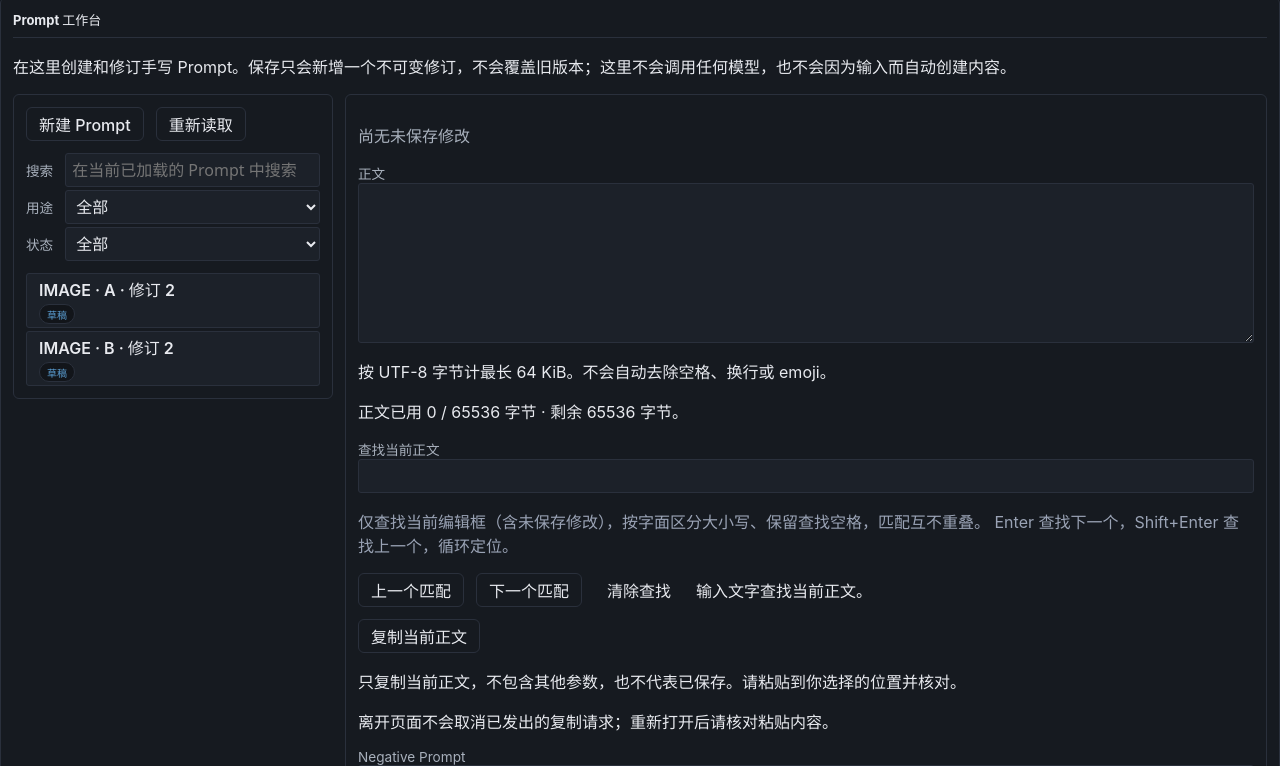
mounted save receipts survive family navigation › reopens A with its actual conflict outcome and never changes B
Click the button "IMAGE · A · 修订 2 草稿".
click(173, 300)  # box [26,273,320,328]
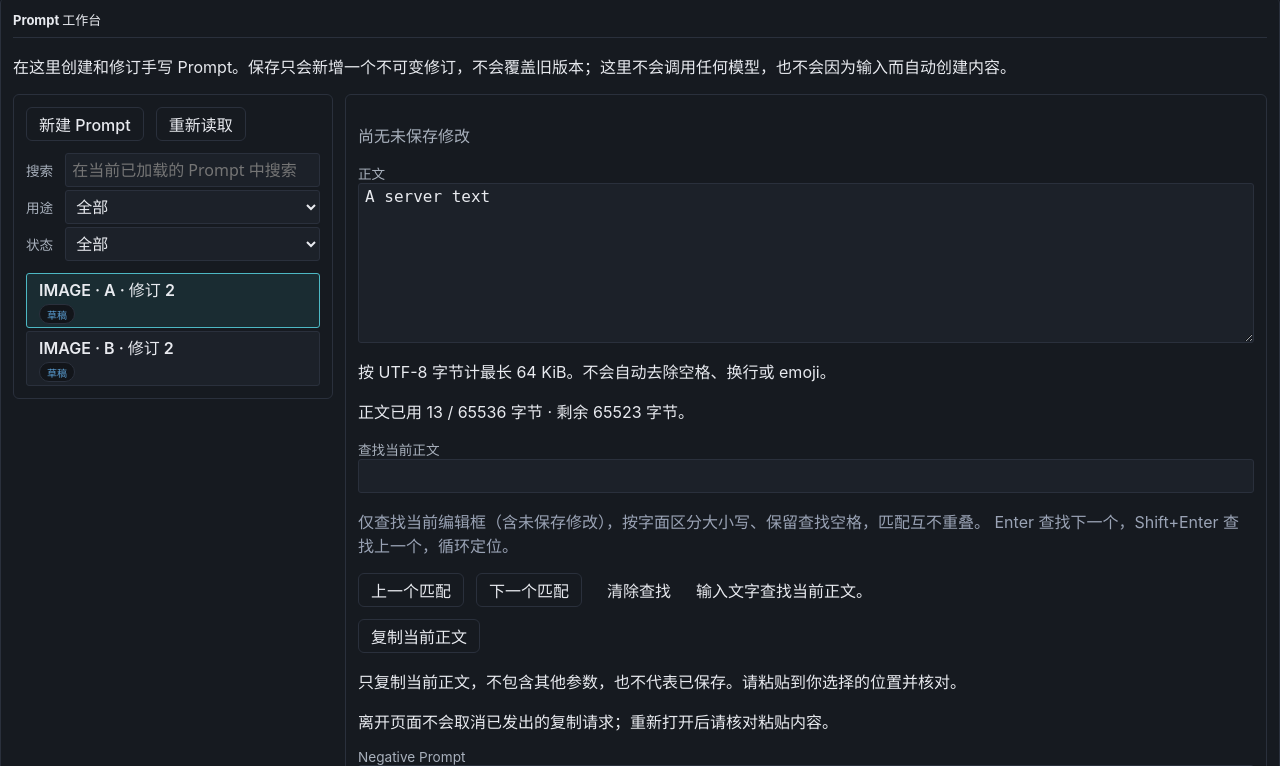
Now the text box labelled "正文" holds "A server text"
Replace the text in the text box labelled "正文" with "A frozen local text" at (806, 263), box [358,183,1254,343]
(page scrolled)
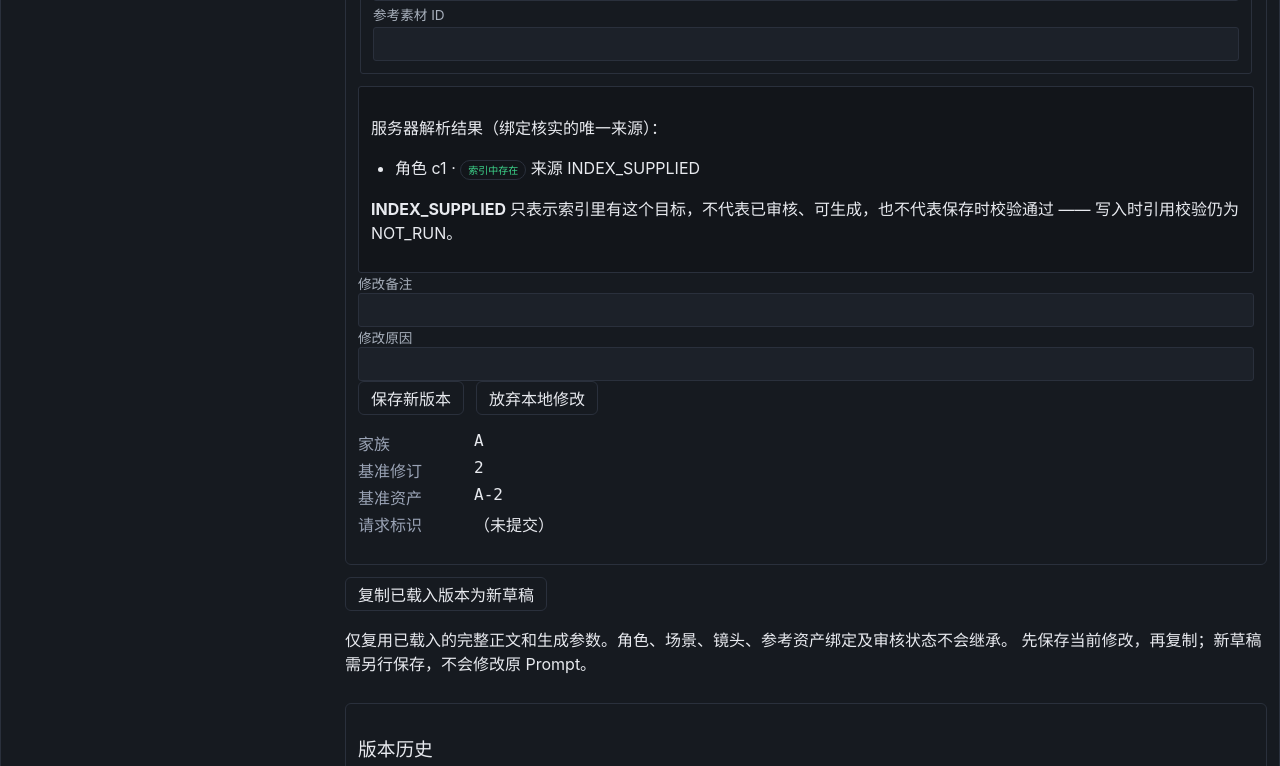
Click the button "保存新版本".
click(411, 398)  # box [358,380,464,414]
(page scrolled)
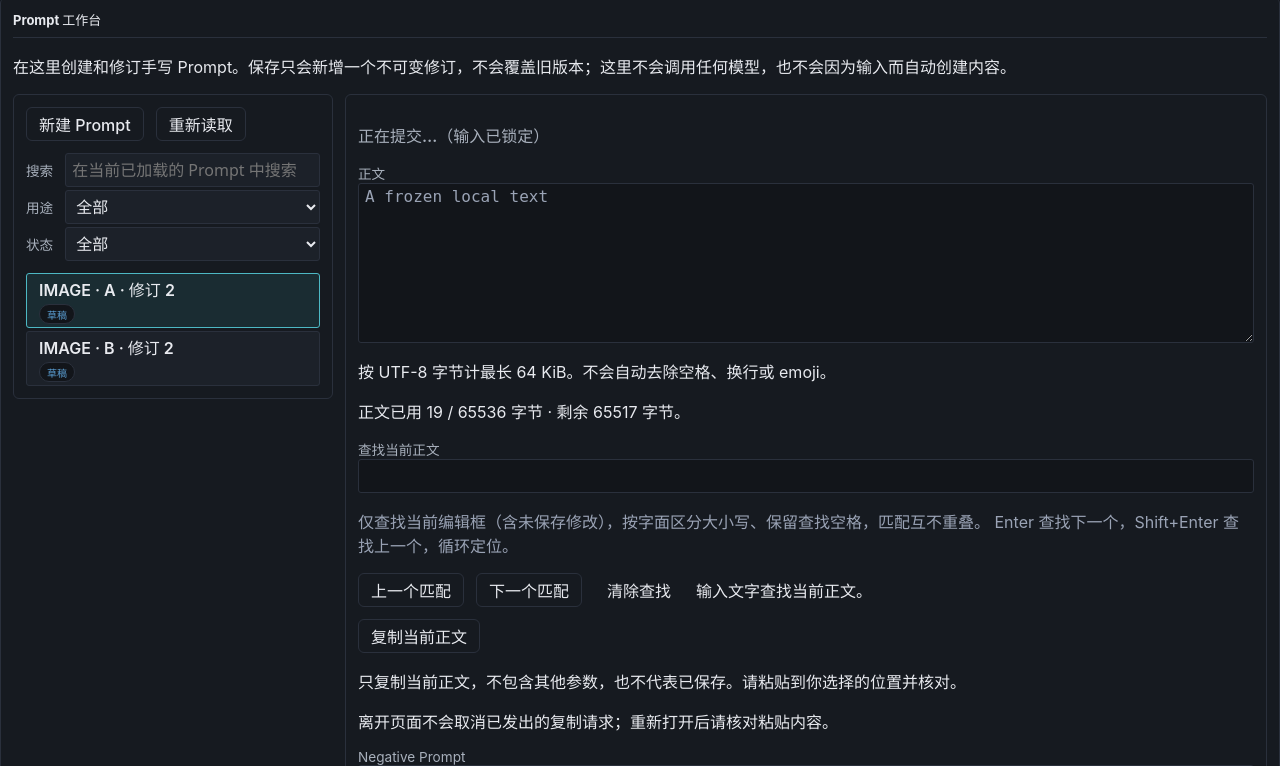
Click the button "IMAGE · B · 修订 2 草稿".
click(173, 358)  # box [26,331,320,386]
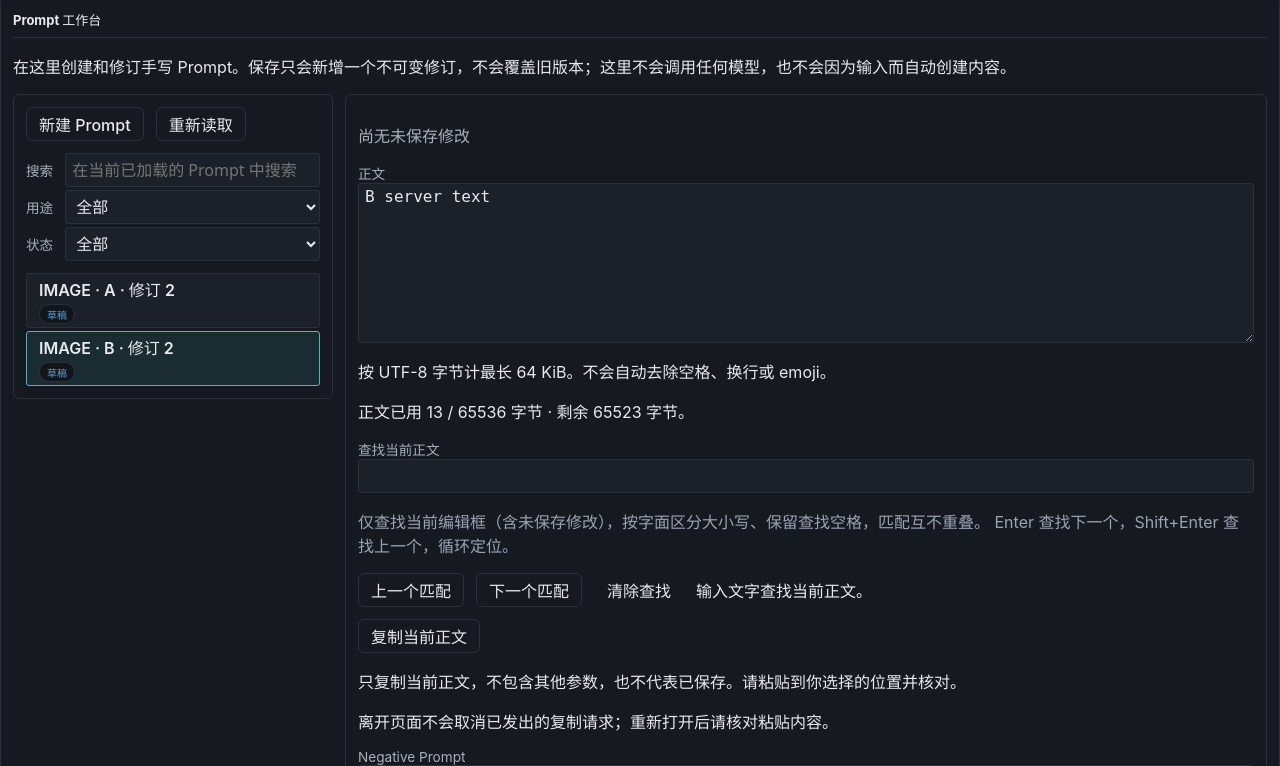
Expected: the text "已保存" is not shown
Now the text box labelled "正文" holds "B server text", box [358,183,1254,343]
Click the button "IMAGE · A · 修订 2 草稿".
click(173, 300)  # box [26,273,320,328]
(page scrolled)
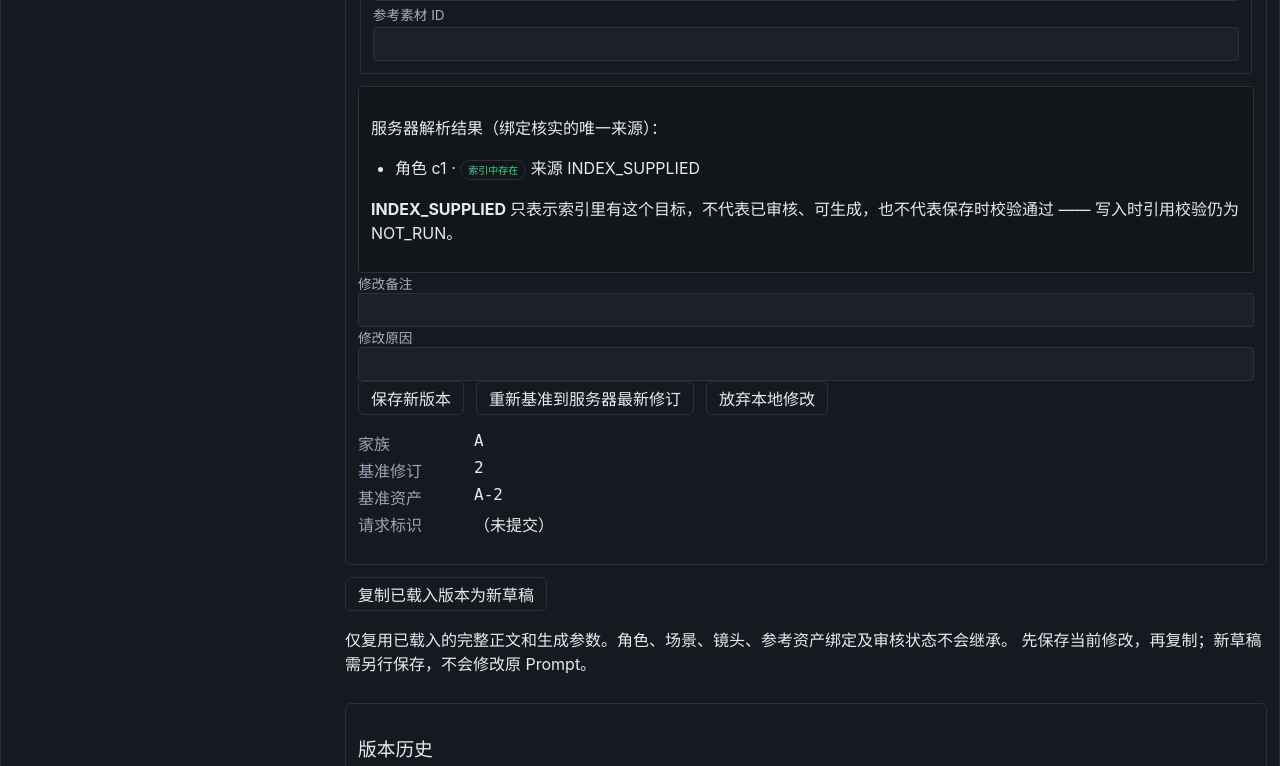
Click the button "重新基准到服务器最新修订".
click(585, 398)  # box [476,380,694,414]
(page scrolled)
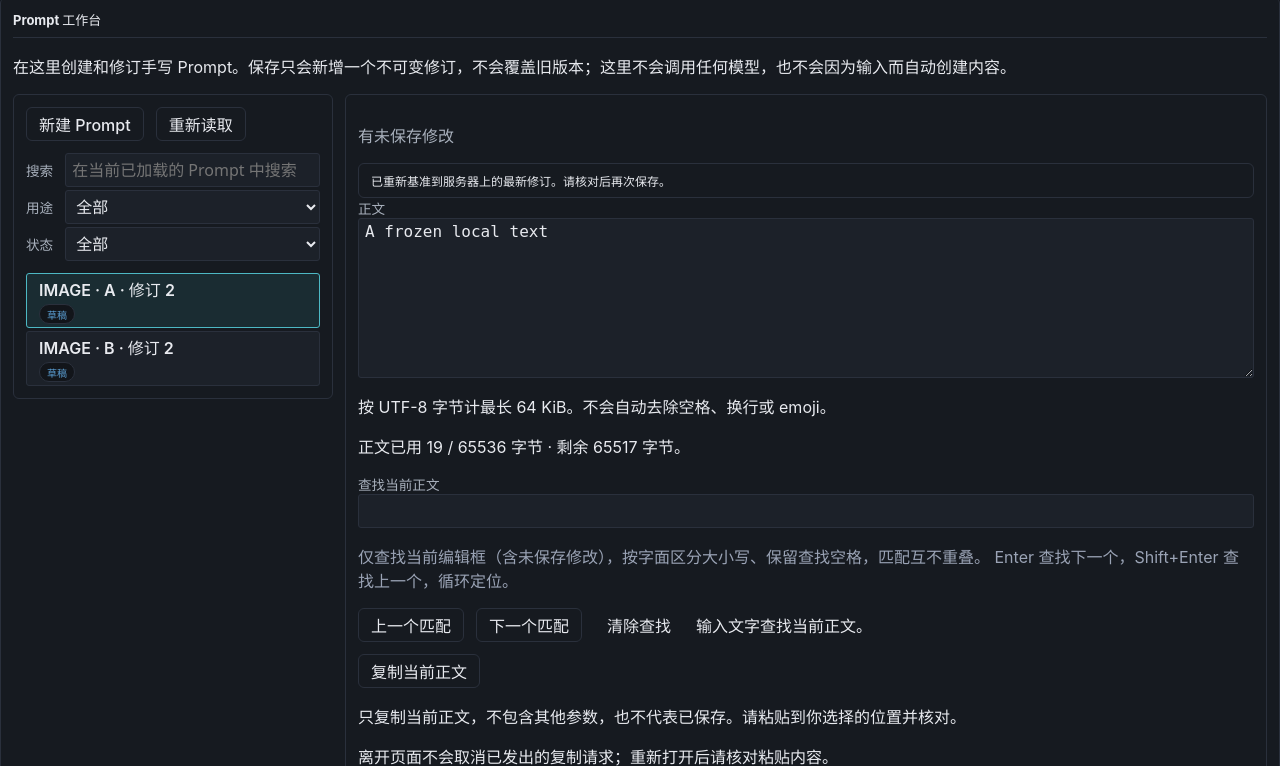
Now the button "重新基准到服务器最新修订" is gone
